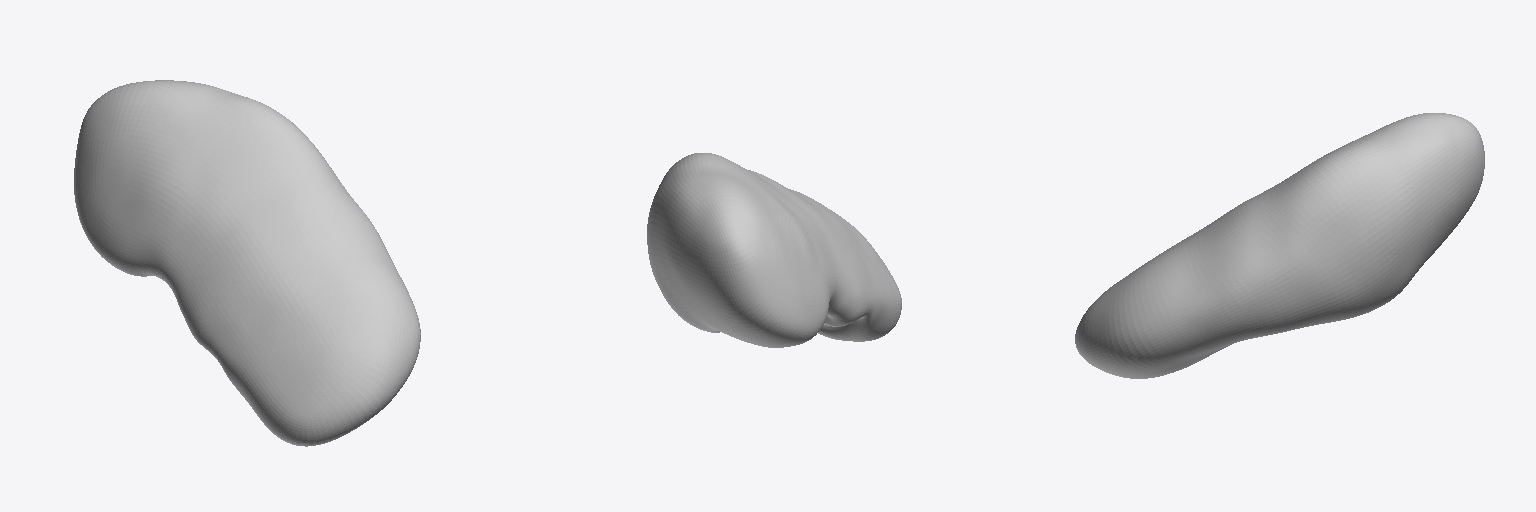
File: 30K_Kidney_Right.OBJ
The picture shows the model from 3 angles: view 1: azimuth 30°, elevation 25°; view 2: azimuth 150°, elevation 25°; view 3: azimuth 270°, elevation 25°; orthographic projection.
Visible parts, largest first — view 1: ZBrushPolyMesh3D; view 2: ZBrushPolyMesh3D; view 3: ZBrushPolyMesh3D.
Part boxes in pixels (bbox=[...]): ZBrushPolyMesh3D: bbox=[74, 80, 420, 446]; ZBrushPolyMesh3D: bbox=[647, 153, 901, 347]; ZBrushPolyMesh3D: bbox=[1075, 113, 1484, 378].
Size of the model in its own units: 8.16 by 9.51 by 14.04.